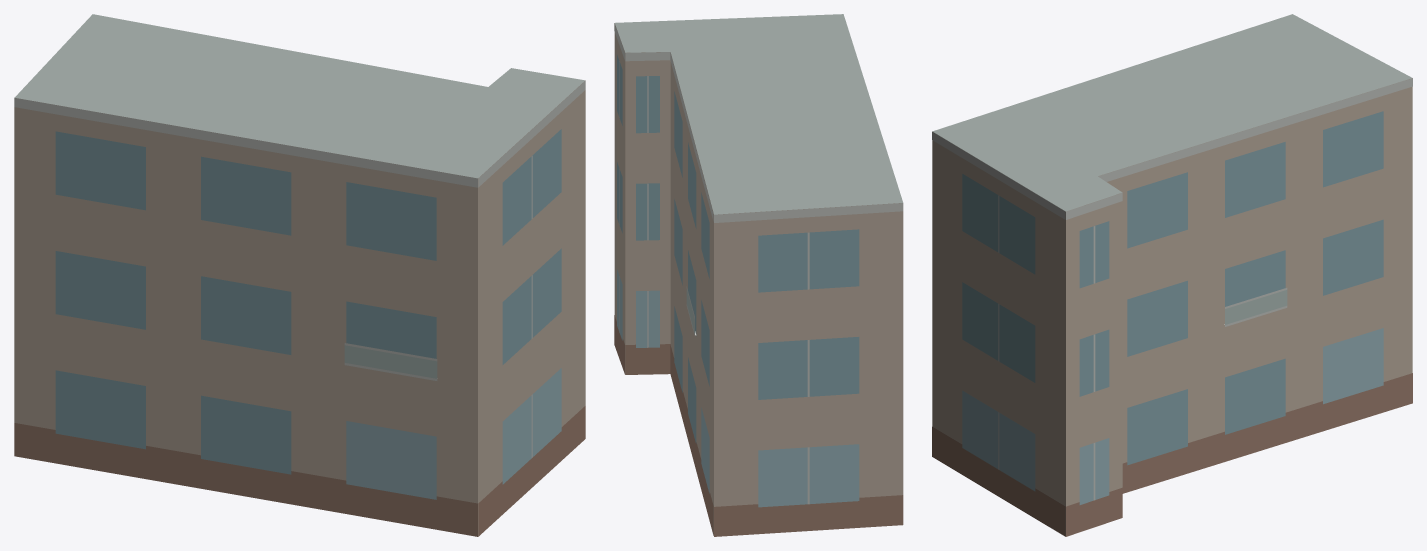
File: survey-upis-32967720.glb
The picture shows the model from 3 angles, left to right: view 1: azimuth 30°, elevation 25°; view 2: azimuth 150°, elevation 25°; view 3: azimuth 270°, elevation 25°; orthographic projection. The views are drawn at different scales.
Parts seen in each view (by area): view 1: survey-upis-32967720.tmp; view 2: survey-upis-32967720.tmp; view 3: survey-upis-32967720.tmp.
Boxes of the visible parts, <box> form: survey-upis-32967720.tmp: <box>14,14,585,536</box>; survey-upis-32967720.tmp: <box>614,14,903,536</box>; survey-upis-32967720.tmp: <box>932,14,1412,536</box>.
Size of the model in its own units: 12.12 by 9.3 by 12.46.
